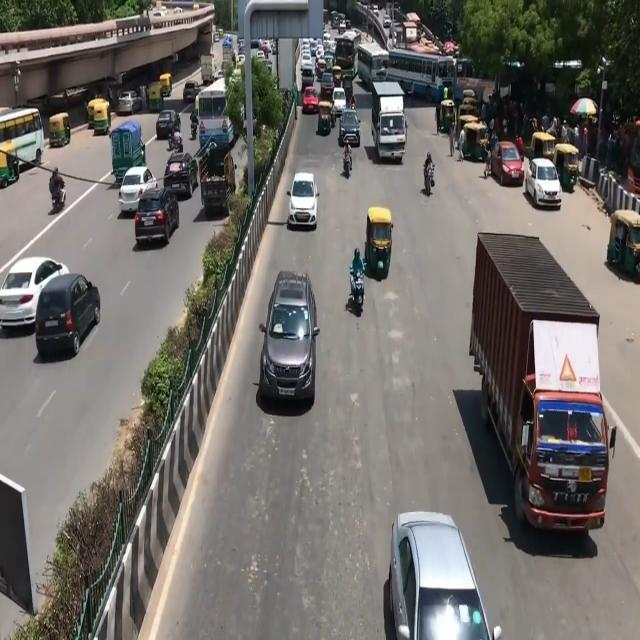Auto: (363, 198, 399, 280), (92, 94, 114, 136), (48, 115, 74, 146)
Bike: (45, 167, 73, 211), (422, 152, 438, 200), (342, 140, 355, 186)
Bus: (387, 44, 456, 97), (357, 43, 389, 83)
Car: (259, 261, 323, 414)
Scooty: (346, 244, 370, 320)
Tempo: (198, 140, 236, 212)
Truck: (466, 227, 620, 544), (368, 78, 412, 170)
